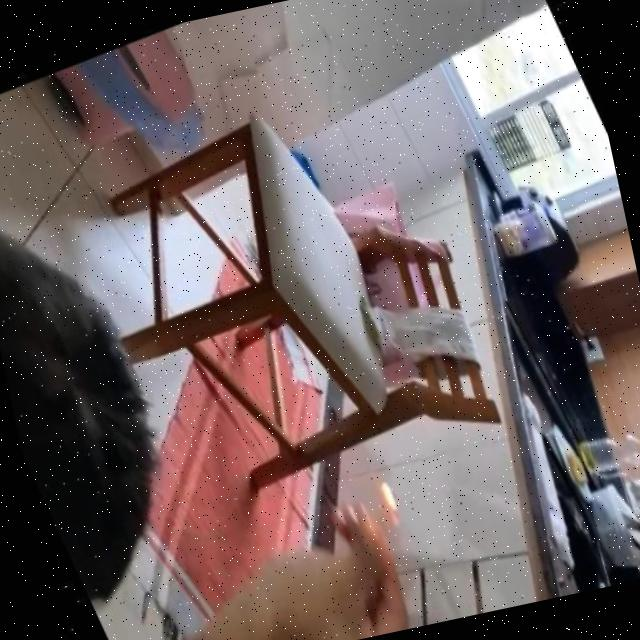fire: (374, 474, 398, 512)
